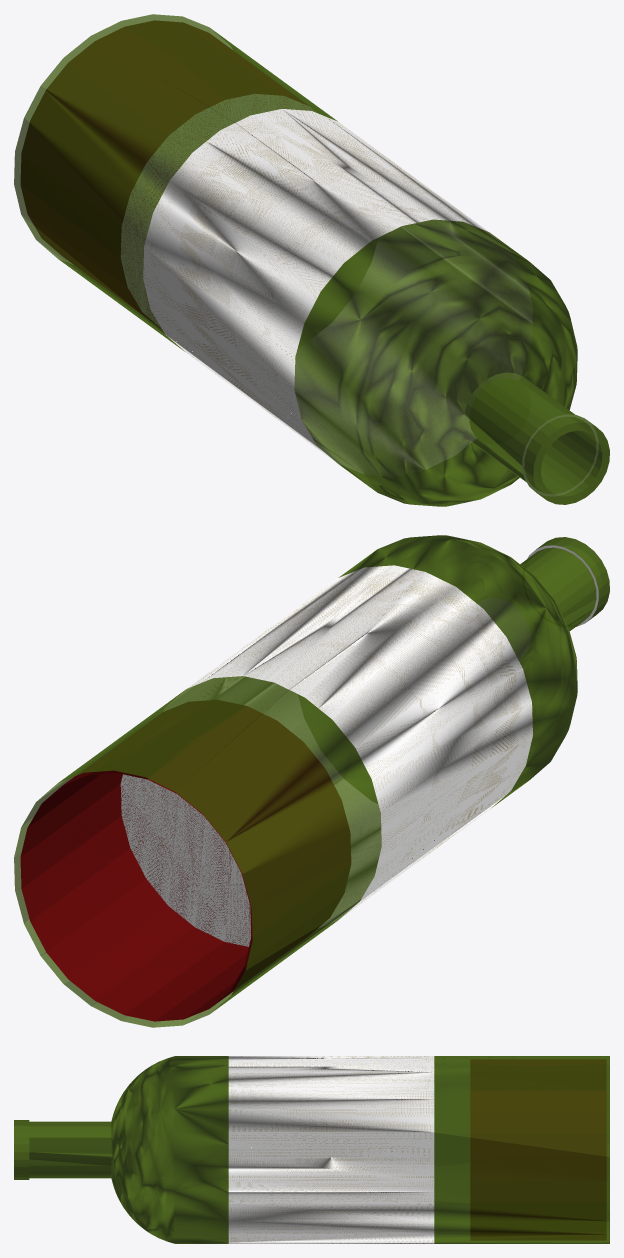
File: model_align.obj
3 renders of one model, top to bottom at view 1: azimuth 30°, elevation 25°; view 2: azimuth 150°, elevation 25°; view 3: azimuth 270°, elevation 25°, orthographic. The views are drawn at different scales.
Bounding box in the file's own units: 0.0486 × 0.0486 × 0.1547.
